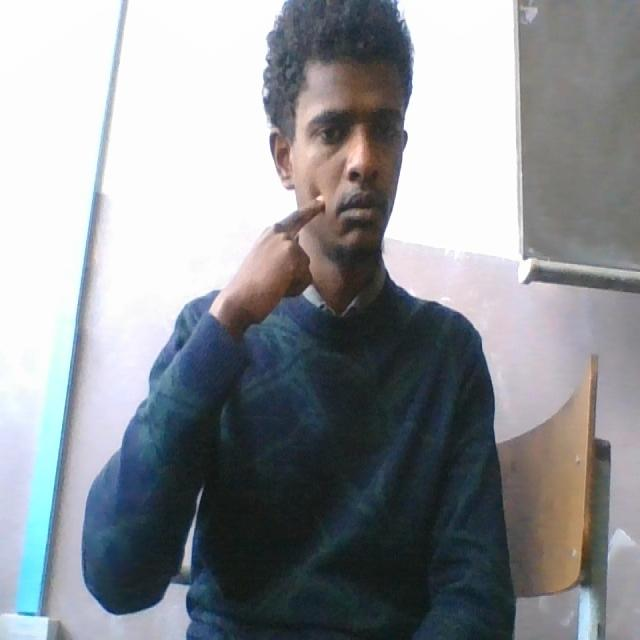enkuan_dehna_metachu: (240, 176, 397, 314)
